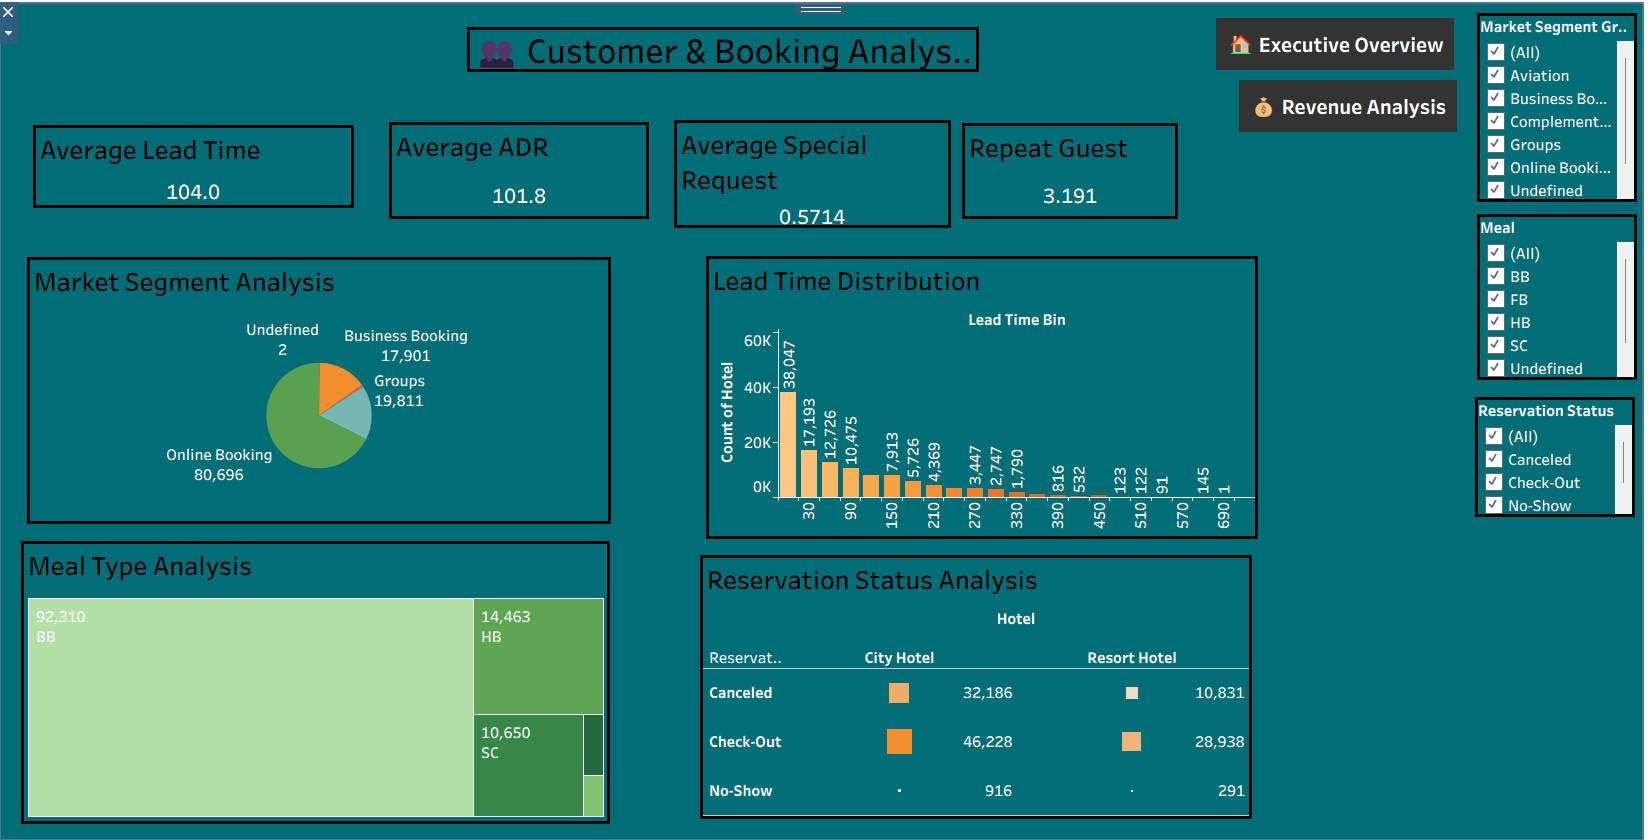

The dashboard page shown, as its layout file describes it:
{"tool":"tableau","page":{"name":"Dashboard 2 - Customer & Booking Analysis","canvas":[1000,1000],"units":"permille","ordinal":1},"visuals":[{"type":"filter","title":"Market Segment Analysis","param":"[federated.0a99urz0fhxp8b12dro9z075rd1u].[Market Segment Group]","box":[895.6,20,96.6,222.1]},{"type":"dashboard-object","box":[738.1,25.9,143.6,61.1]},{"type":"text","box":[286.1,36.4,309,52.9]},{"type":"dashboard-object","box":[752,98.7,131.6,61.1]},{"type":"worksheet","title":"KPI - Average Special Requests","mark":"Automatic","box":[411,145.7,167.2,126.9]},{"type":"worksheet","title":"KPI - Average ADR","mark":"Automatic","box":[239,148.1,156.9,114]},{"type":"worksheet","title":"KPI - Repeat Guest Rate","mark":"Automatic","box":[584.8,149.2,130.4,112.8]},{"type":"worksheet","title":"KPI - Average Lead Time","mark":"Automatic","box":[24.1,151.6,193.7,97.5]},{"type":"filter","title":"Meal Type Analysis","param":"[federated.0a99urz0fhxp8b12dro9z075rd1u].[none:meal:nk]","box":[895.6,256.2,96.6,195.1]},{"type":"worksheet","title":"Lead Time Distribution","mark":"Automatic","rows":["hotel"],"cols":["Lead Time (bin)"],"box":[430.3,305.5,333.1,332.6]},{"type":"worksheet","title":"Market Segment Analysis","mark":"Pie","box":[20.5,306.7,352.4,313.8]},{"type":"filter","title":"Reservation Status Analysis","param":"[federated.0a99urz0fhxp8b12dro9z075rd1u].[none:reservation_status:nk]","box":[894.4,471.2,96.6,141]},{"type":"worksheet","title":"Meal Type Analysis","mark":"Automatic","box":[16.9,640.4,355.5,332.6]},{"type":"worksheet","title":"Reservation Status Analysis","mark":"Square","rows":["reservation_status"],"cols":["hotel"],"box":[426.7,656.9,333.1,310.2]}]}

Visuals, with their boxes on the dashboard's canvas, which has no fixed pixel size, in thousandths of its width and height (x1, y1, x2, y2). These are canvas units, not pixel positions in the 1650x840 screenshot, which may show the page scaled, cropped or inside an application window:
"Market Segment Analysis" filter: (896, 20, 992, 242)
dashboard-object: (738, 26, 882, 87)
text: (286, 36, 595, 89)
dashboard-object: (752, 99, 884, 160)
"KPI - Average Special Requests" worksheet: (411, 146, 578, 273)
"KPI - Average ADR" worksheet: (239, 148, 396, 262)
"KPI - Repeat Guest Rate" worksheet: (585, 149, 715, 262)
"KPI - Average Lead Time" worksheet: (24, 152, 218, 249)
"Meal Type Analysis" filter: (896, 256, 992, 451)
"Lead Time Distribution" worksheet: (430, 306, 763, 638)
"Market Segment Analysis" worksheet (Pie marks): (20, 307, 373, 620)
"Reservation Status Analysis" filter: (894, 471, 991, 612)
"Meal Type Analysis" worksheet: (17, 640, 372, 973)
"Reservation Status Analysis" worksheet (Square marks): (427, 657, 760, 967)
